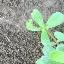Purslane: (9, 5, 64, 64)
